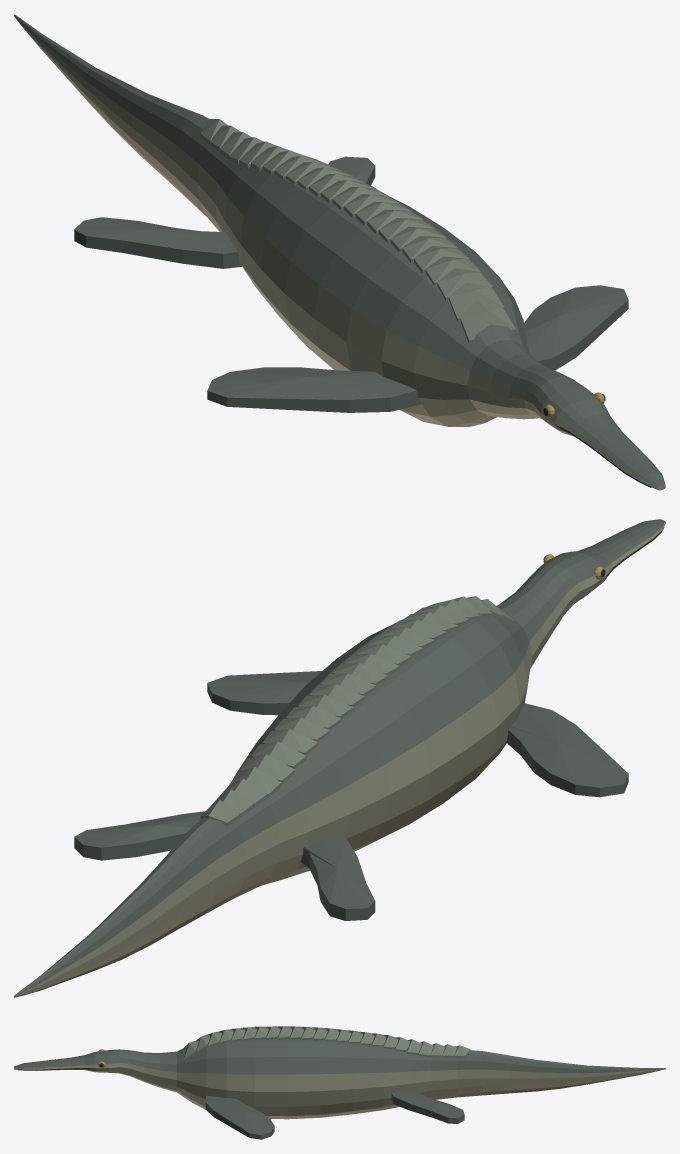
3 views of the same model, one above another, from view 1: azimuth 30°, elevation 25°; view 2: azimuth 150°, elevation 25°; view 3: azimuth 270°, elevation 25° (orthographic). The views are drawn at different scales.
Visible parts, largest first — view 1: Body_neck_toothless_snout_and_compressed_tail, Fore_paddles_pair, Dorsal_low_overlapping_ossicles, Hind_paddles_pair; view 2: Body_neck_toothless_snout_and_compressed_tail, Dorsal_low_overlapping_ossicles, Fore_paddles_pair, Hind_paddles_pair; view 3: Body_neck_toothless_snout_and_compressed_tail, Dorsal_low_overlapping_ossicles, Fore_paddles_pair, Hind_paddles_pair.
Boxes of the visible parts, x1=… form: Body_neck_toothless_snout_and_compressed_tail: x1=14, y1=14, x2=665, y2=490; Fore_paddles_pair: x1=207, y1=285, x2=628, y2=412; Dorsal_low_overlapping_ossicles: x1=200, y1=119, x2=516, y2=344; Hind_paddles_pair: x1=74, y1=156, x2=375, y2=268; Body_neck_toothless_snout_and_compressed_tail: x1=14, y1=519, x2=665, y2=997; Dorsal_low_overlapping_ossicles: x1=200, y1=596, x2=516, y2=826; Fore_paddles_pair: x1=207, y1=671, x2=628, y2=797; Hind_paddles_pair: x1=74, y1=811, x2=375, y2=920; Body_neck_toothless_snout_and_compressed_tail: x1=14, y1=1038, x2=665, y2=1119; Dorsal_low_overlapping_ossicles: x1=184, y1=1026, x2=470, y2=1060; Fore_paddles_pair: x1=205, y1=1095, x2=274, y2=1139; Hind_paddles_pair: x1=391, y1=1046, x2=464, y2=1123.
Bounding box in the file's own units: 0.372 × 0.1499 × 1.
